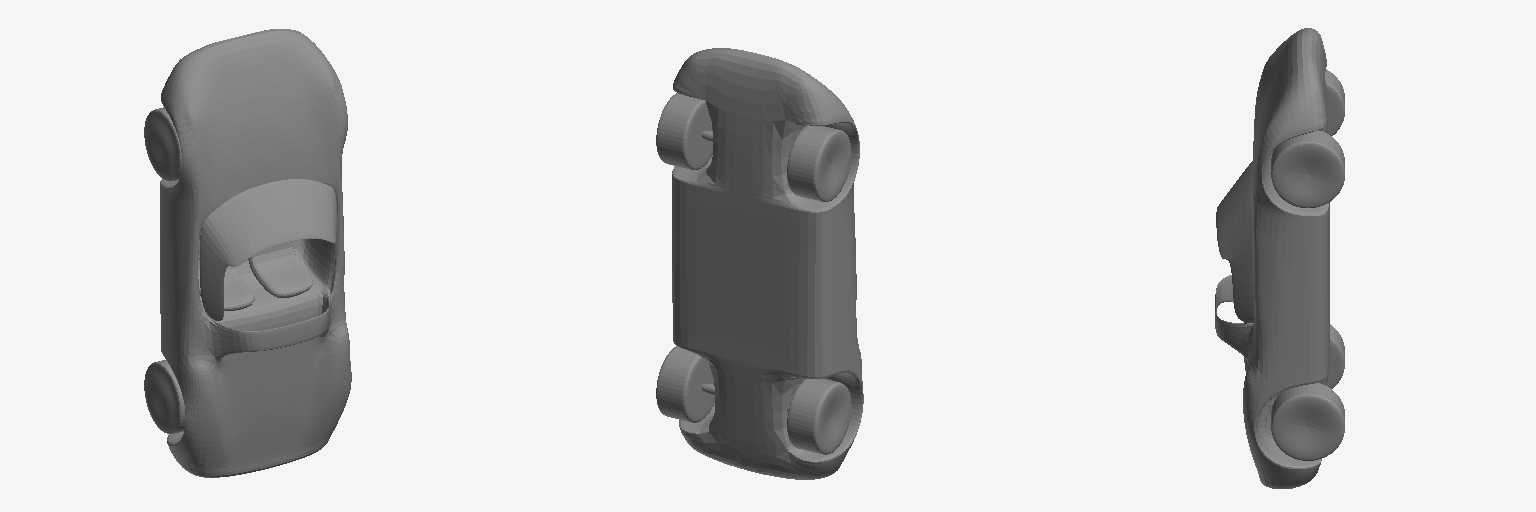
File: 10604_slot_car_red_SG_v1_iterations-2.obj
The picture shows the model from 3 angles: view 1: azimuth 30°, elevation 25°; view 2: azimuth 150°, elevation 25°; view 3: azimuth 270°, elevation 25°; orthographic projection.
Parts seen in each view (by area): view 1: 10604_slot_car_red, 10604_slot_car_red_glass; view 2: 10604_slot_car_red; view 3: 10604_slot_car_red, 10604_slot_car_red_glass.
Boxes of the visible parts, <box> form: 10604_slot_car_red: <box>144,29,351,477</box>; 10604_slot_car_red_glass: <box>199,179,337,320</box>; 10604_slot_car_red: <box>656,48,863,479</box>; 10604_slot_car_red: <box>1215,28,1344,488</box>; 10604_slot_car_red_glass: <box>1216,161,1254,321</box>.
Size of the model in its own units: 2.05 by 4.95 by 1.39.